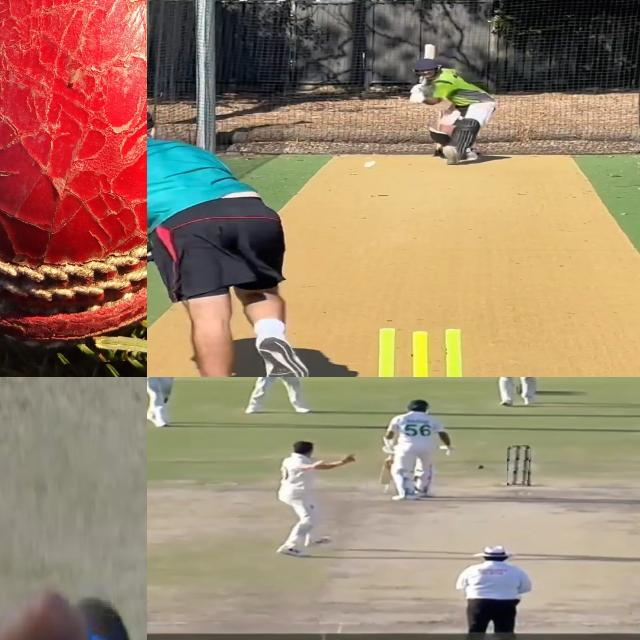Cricket ball: (0, 0, 147, 376), (364, 160, 379, 170)
Stumps: (364, 328, 487, 377), (508, 445, 532, 487)
